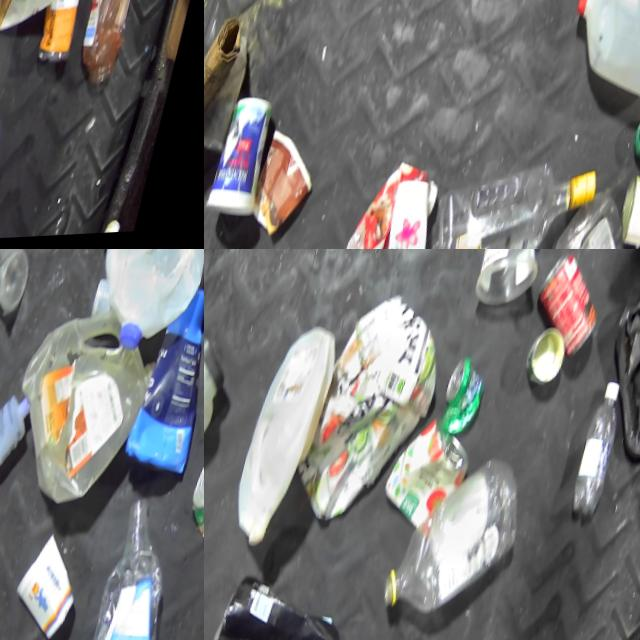can: (380, 413, 478, 537), (528, 249, 609, 361), (520, 317, 575, 394), (438, 356, 488, 439), (177, 433, 204, 559), (611, 173, 640, 249)
milk_jug: (231, 320, 340, 547), (83, 249, 204, 362), (560, 0, 640, 112)
non_white_jug: (0, 328, 156, 508), (122, 284, 204, 482), (204, 563, 366, 640)
plastic_bottle: (372, 435, 533, 640), (80, 484, 190, 640), (565, 379, 633, 522)
